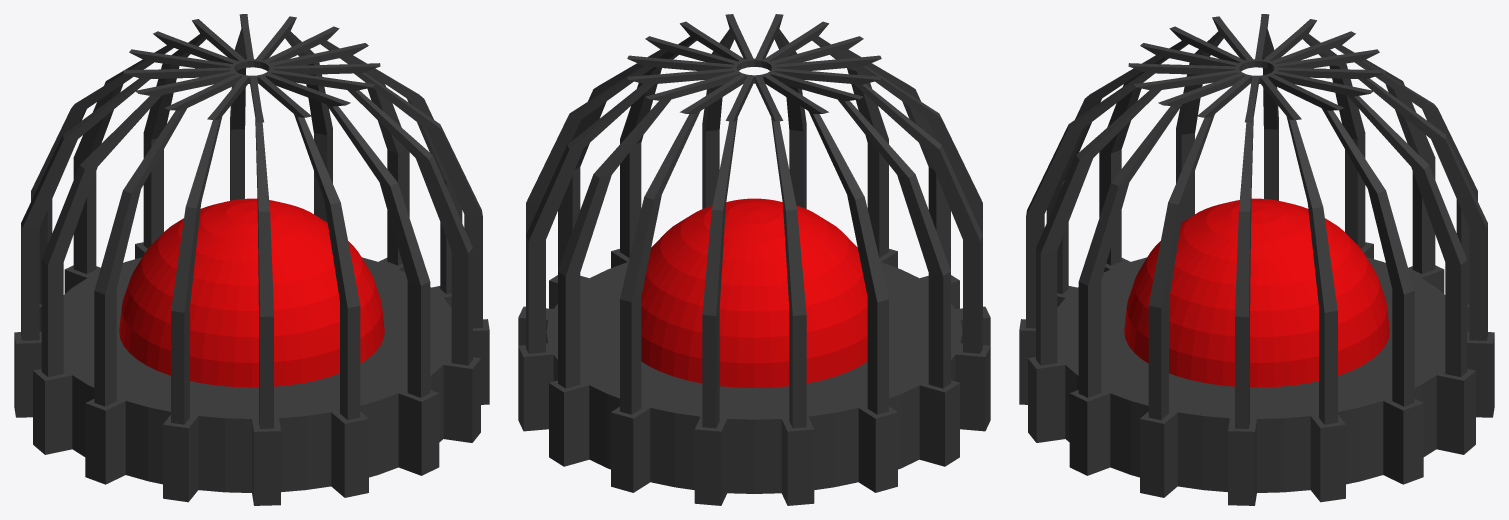
File: EmergencyLight.fbx
The picture shows the model from 3 angles, left to right: view 1: azimuth 30°, elevation 25°; view 2: azimuth 150°, elevation 25°; view 3: azimuth 270°, elevation 25°; orthographic projection.
Parts seen in each view (by area): view 1: Sphere; view 2: Sphere; view 3: Sphere.
Part boxes in pixels (<box>): Sphere: <box>14,14,489,505</box>; Sphere: <box>518,14,990,505</box>; Sphere: <box>1019,14,1494,505</box>.
Size of the model in its own units: 251 by 196 by 251.
